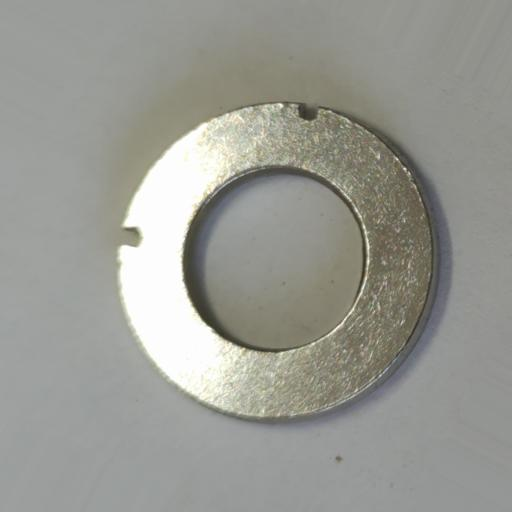burr: (118, 226, 143, 248), (295, 103, 317, 121)
